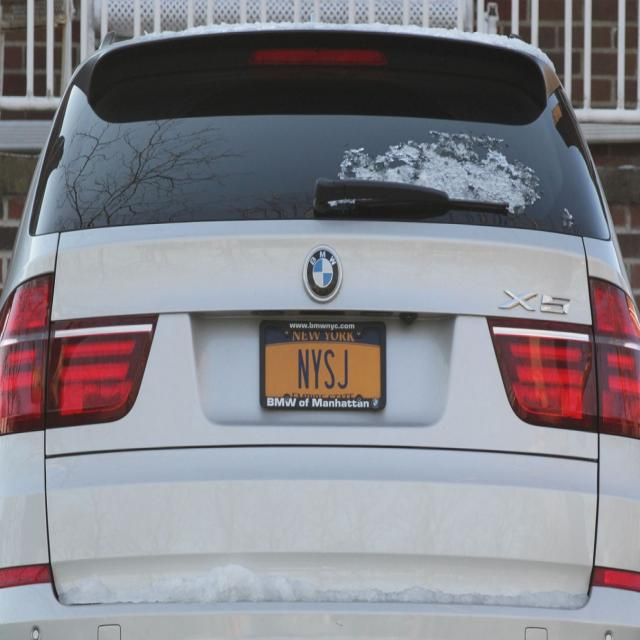Number-Plate: (265, 330, 382, 407)
